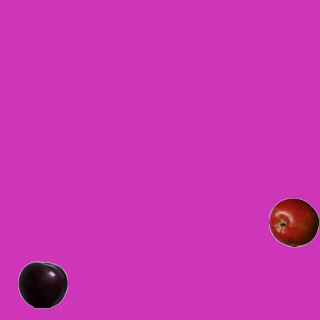Apple Braeburn: (268, 197, 318, 247)
Cherry Wax Black: (17, 259, 67, 309)
